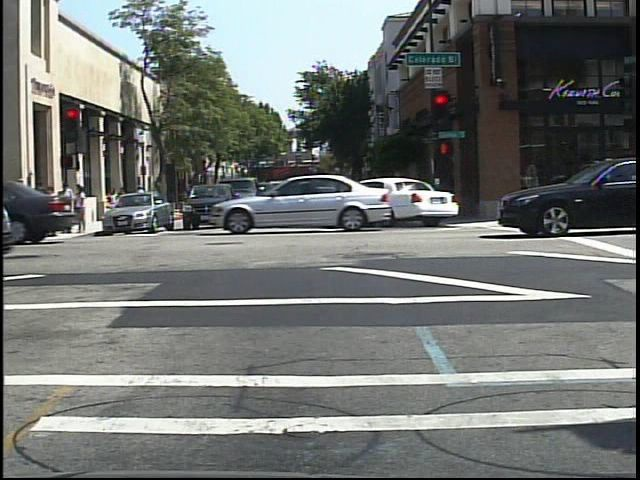person: (132, 181, 151, 221), (135, 181, 149, 215)
